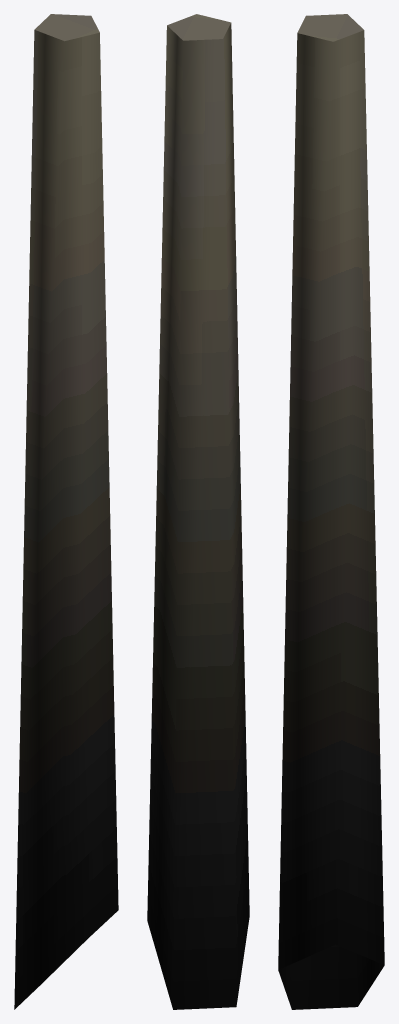
The model's file is termite_shaft.obj.
The picture shows the model from 3 angles, left to right: view 1: azimuth 30°, elevation 25°; view 2: azimuth 150°, elevation 25°; view 3: azimuth 330°, elevation 25°; orthographic projection. The views are drawn at different scales.
Visible parts, largest first — view 1: termite_shaft; view 2: termite_shaft; view 3: termite_shaft.
Part boxes in pixels (<box>): termite_shaft: <box>14,14,118,1009</box>; termite_shaft: <box>147,14,249,1009</box>; termite_shaft: <box>278,14,384,1009</box>.
Size of the model in its own units: 1.79 by 18.41 by 1.7.
Materials: 1 (1 with a texture image).
